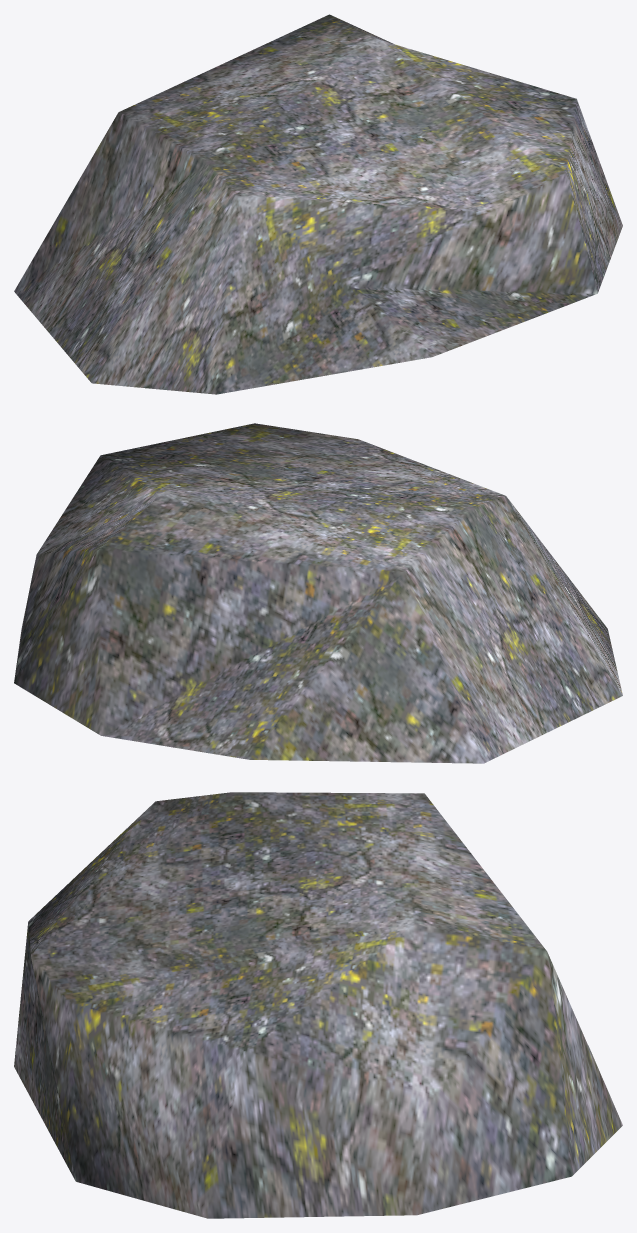
The model's file is rock_weatheredmossy_large_l1.fbx.
3 renders of one model, top to bottom at view 1: azimuth 30°, elevation 25°; view 2: azimuth 150°, elevation 25°; view 3: azimuth 270°, elevation 25°, orthographic. The views are drawn at different scales.
Parts seen in each view (by area): view 1: mesh_node; view 2: mesh_node; view 3: mesh_node.
Part boxes in pixels (bbox=[...]): mesh_node: bbox=[14, 14, 622, 394]; mesh_node: bbox=[14, 423, 622, 763]; mesh_node: bbox=[14, 792, 622, 1218].
Bounding box in the file's own units: 0.8513 × 0.2745 × 0.6865.
Materials: 1 (1 with a texture image).
